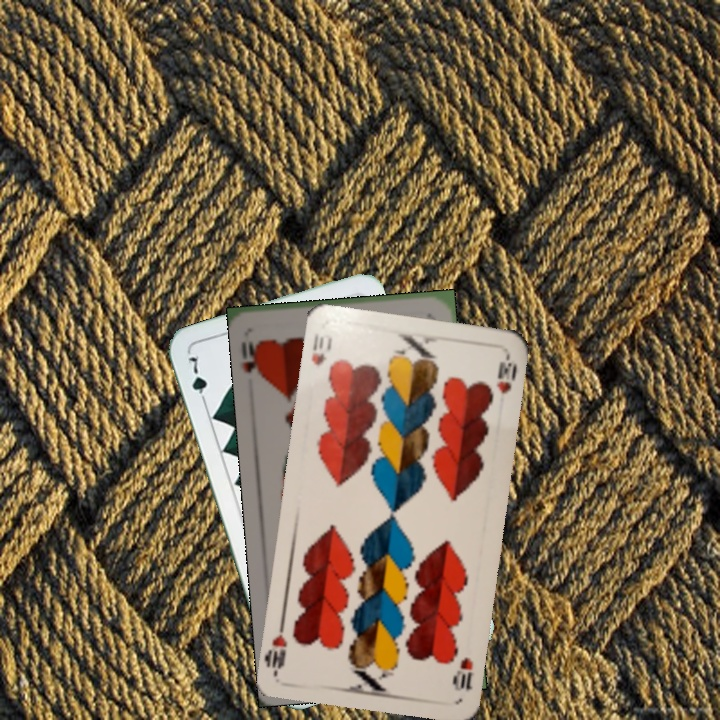G7: (183, 351, 210, 408)
H10: (307, 329, 335, 369), (449, 653, 476, 694)
HO: (237, 336, 266, 381)
